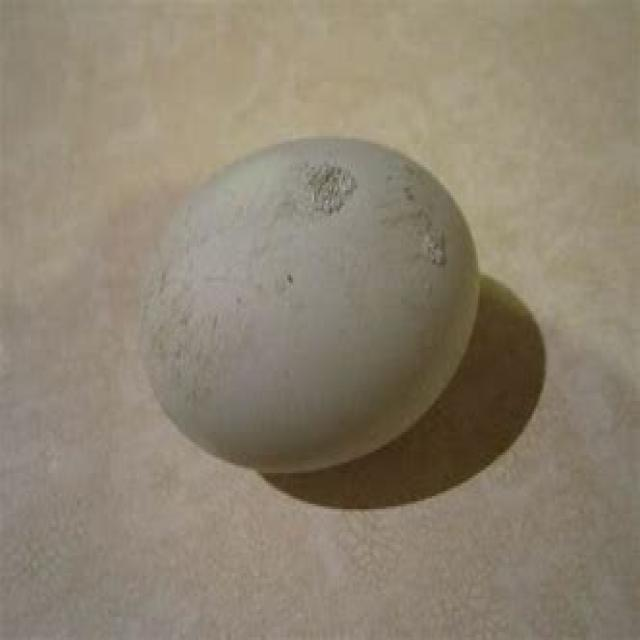Calcium Deposit Egg: (126, 128, 486, 512)
